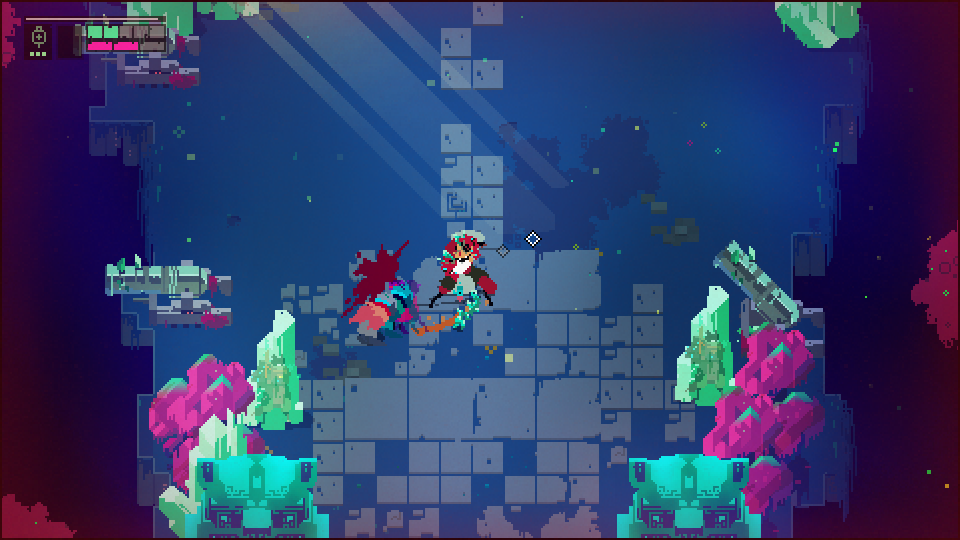hanged_man: (413, 232, 498, 336)
player: (340, 299, 392, 346)
